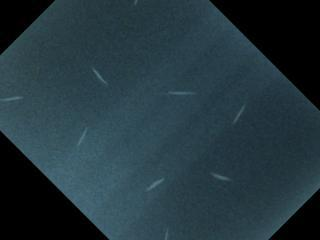scratch: (232, 101, 247, 125), (90, 66, 108, 86), (77, 126, 89, 147), (146, 178, 165, 191), (209, 172, 233, 182), (34, 60, 42, 85), (167, 90, 197, 96), (0, 95, 24, 102), (164, 228, 170, 240), (133, 0, 139, 6)
